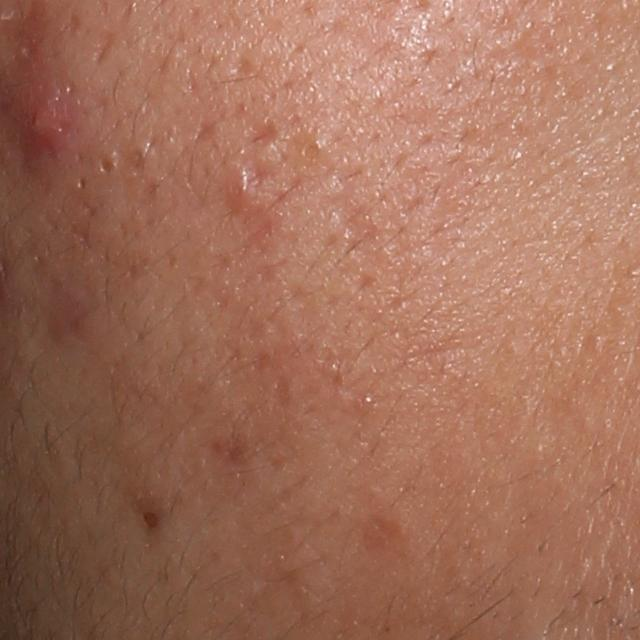atrophic_scar: (315, 167, 379, 259), (250, 118, 280, 152), (231, 49, 257, 76)
comedo: (127, 141, 153, 171), (296, 137, 323, 164), (98, 151, 119, 178), (74, 176, 87, 194)
papule: (3, 70, 77, 156), (225, 172, 253, 209)
